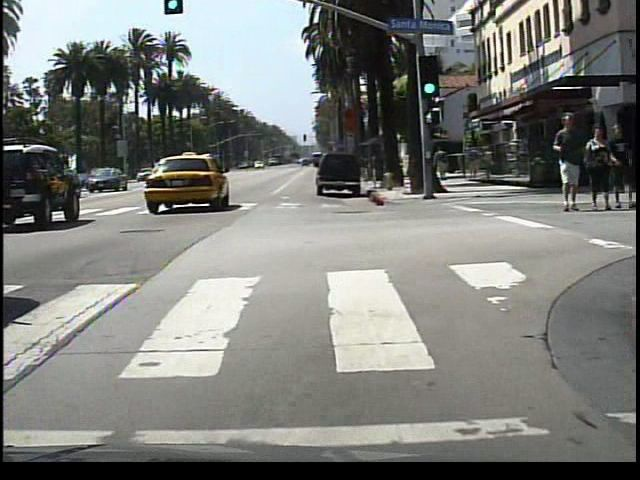person: (549, 107, 584, 221), (582, 124, 613, 215), (604, 123, 631, 211), (432, 145, 454, 186)
